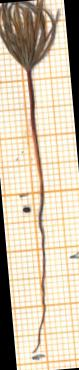flower: (0, 0, 65, 75)
root: (16, 191, 60, 358)
stem: (22, 72, 48, 194)
